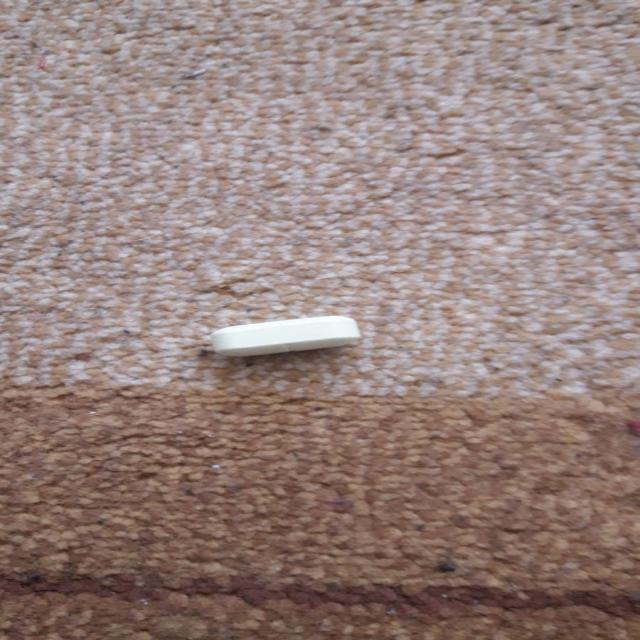pills: (188, 303, 391, 367)
